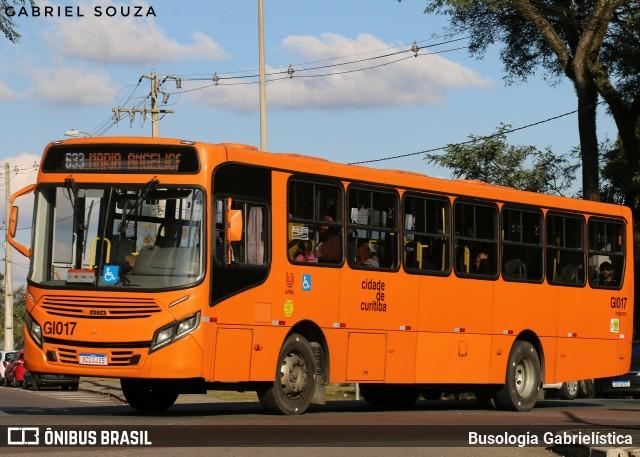MARIA ANGELICA: (86, 148, 187, 172)
